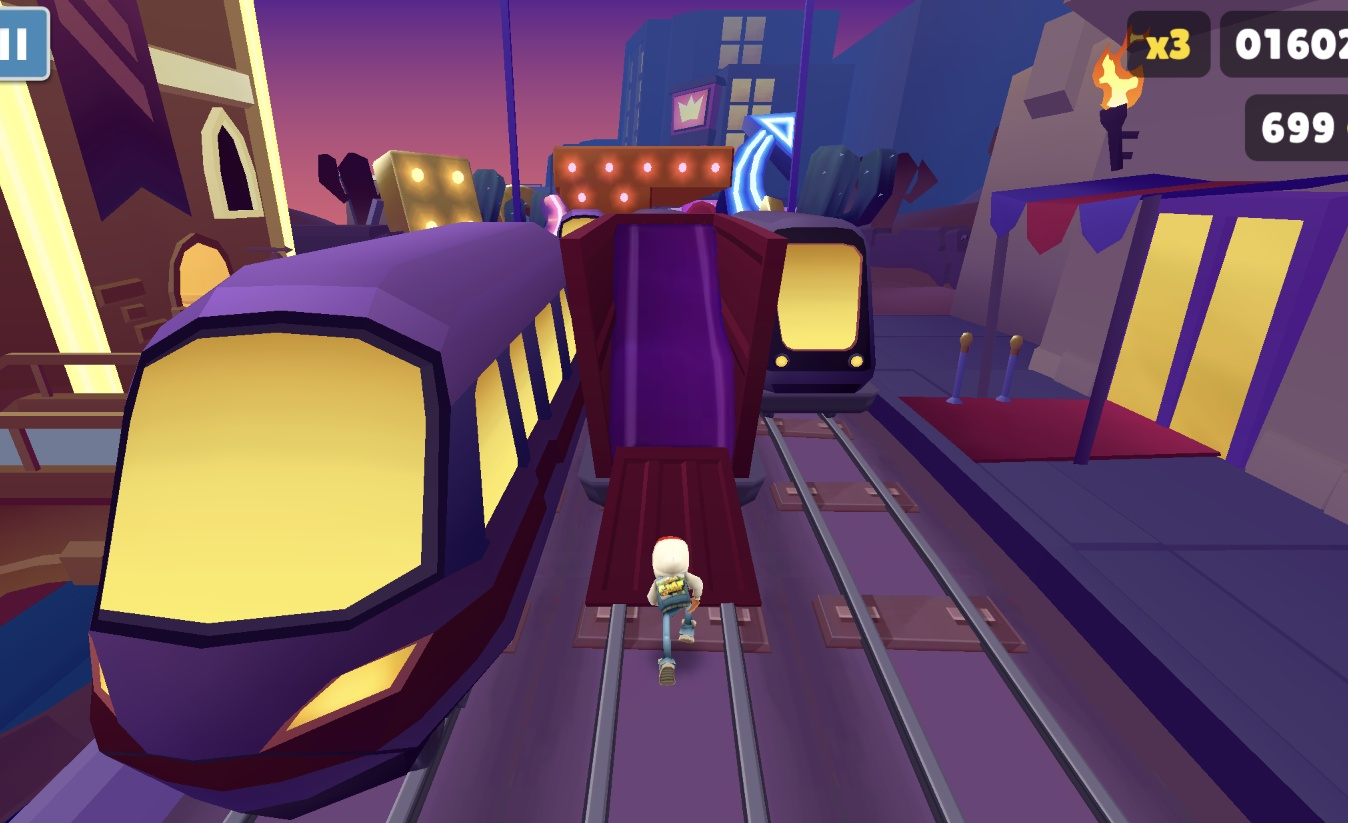pillar: (563, 213, 640, 337)
train: (81, 220, 566, 823), (553, 207, 778, 590), (755, 217, 880, 420)
